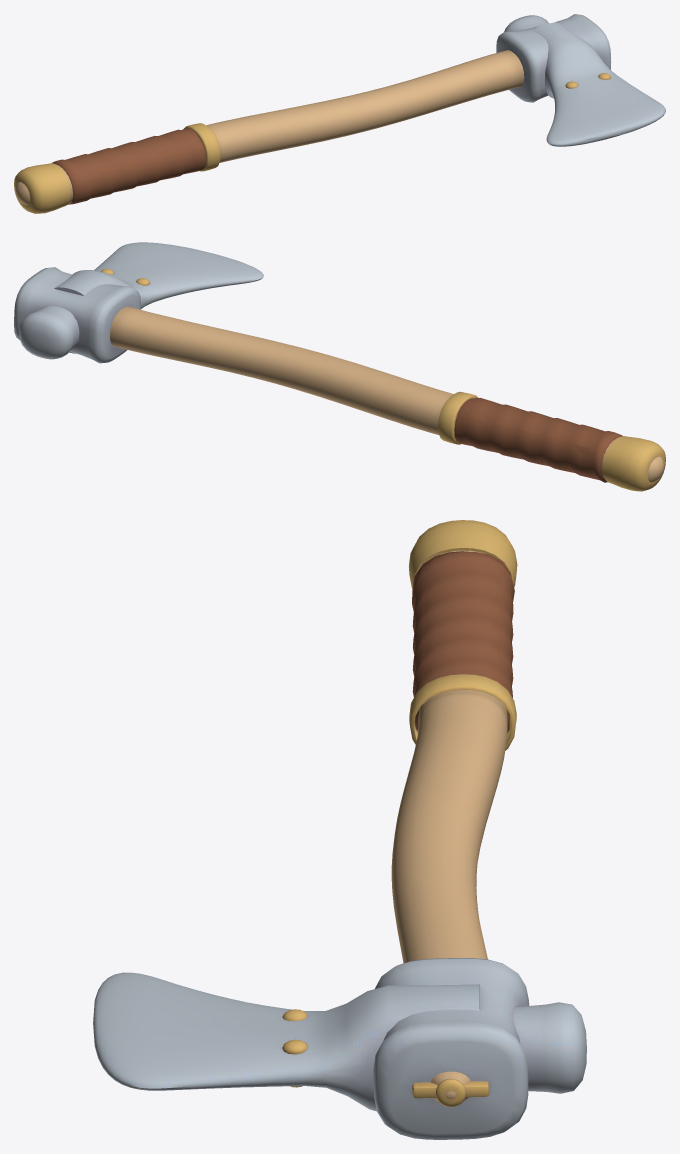
The model's file is vikingo.glb.
3 renders of one model, top to bottom at view 1: azimuth 30°, elevation 25°; view 2: azimuth 150°, elevation 25°; view 3: azimuth 270°, elevation 25°, orthographic. The views are drawn at different scales.
Visible parts, largest first — view 1: hand-axe_body; view 2: hand-axe_body; view 3: hand-axe_body.
Boxes of the visible parts, x1,y1,x2,y2 form: hand-axe_body: (14, 14, 665, 213); hand-axe_body: (14, 242, 665, 491); hand-axe_body: (93, 520, 586, 1139).
Bounding box in the file's own units: 0.4502 × 0.0431 × 0.1656.
1 material, 1 textured.
